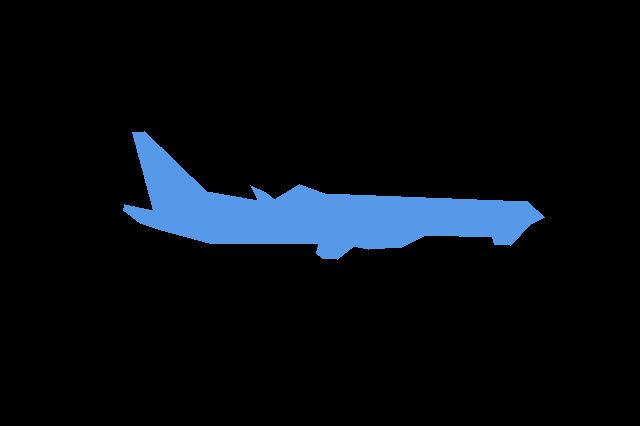Airplane: (123, 131, 545, 260)
